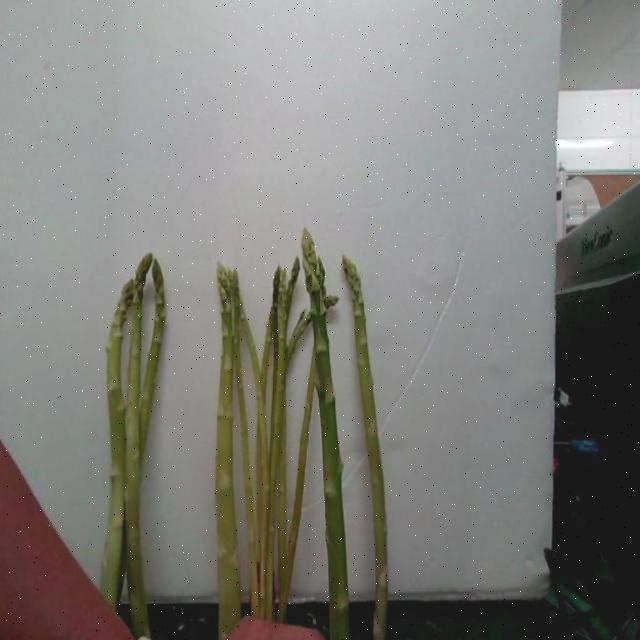aspargus: (299, 226, 353, 640), (342, 257, 390, 640)
